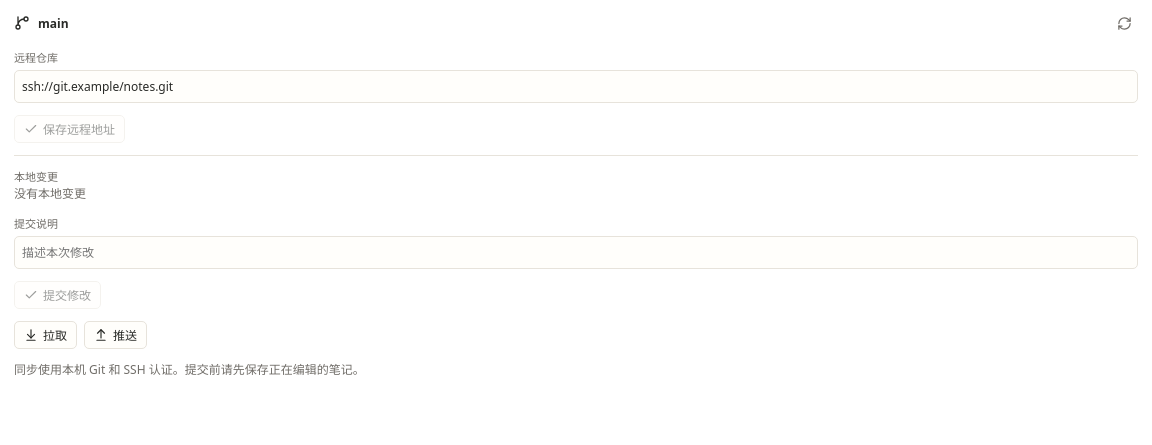
Test: vault Git sync › keeps an operation error visible for retry
Click the button with test id "git-pull". click: (46, 335)
box: [14,321,77,349]
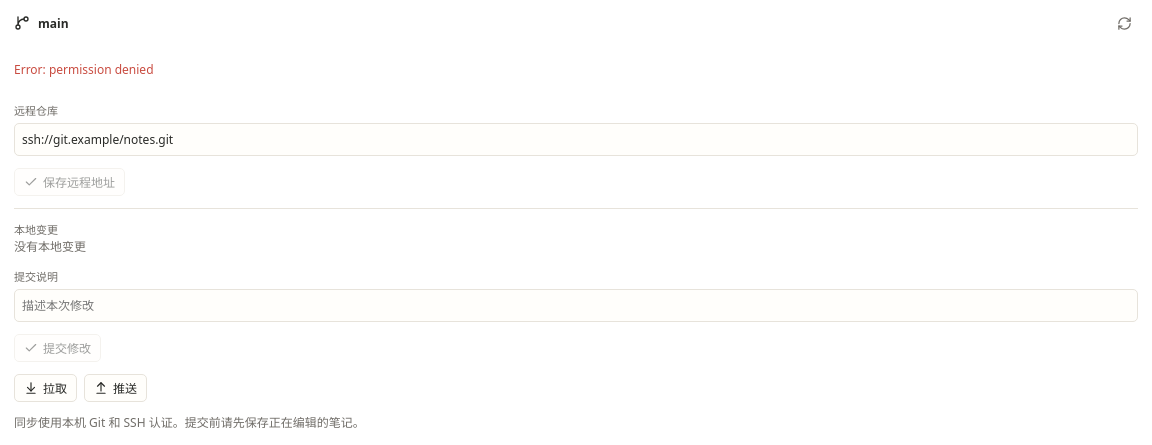
Result: the text "permission denied" is shown at [14,61,154,78]
